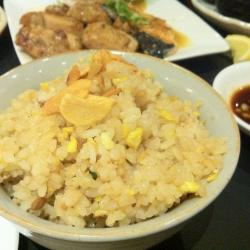rice: (9, 77, 195, 220)
